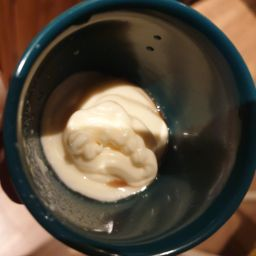Mayonnaise: (60, 73, 167, 199), (66, 111, 140, 179)
